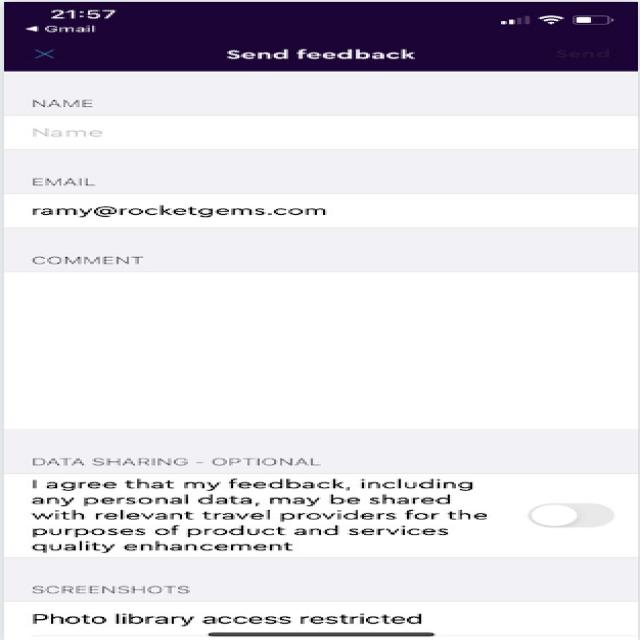icon button: (12, 33, 103, 73)
input: (0, 239, 640, 435), (2, 442, 640, 563), (0, 162, 640, 233), (0, 92, 640, 156)
text: (217, 37, 449, 74)
